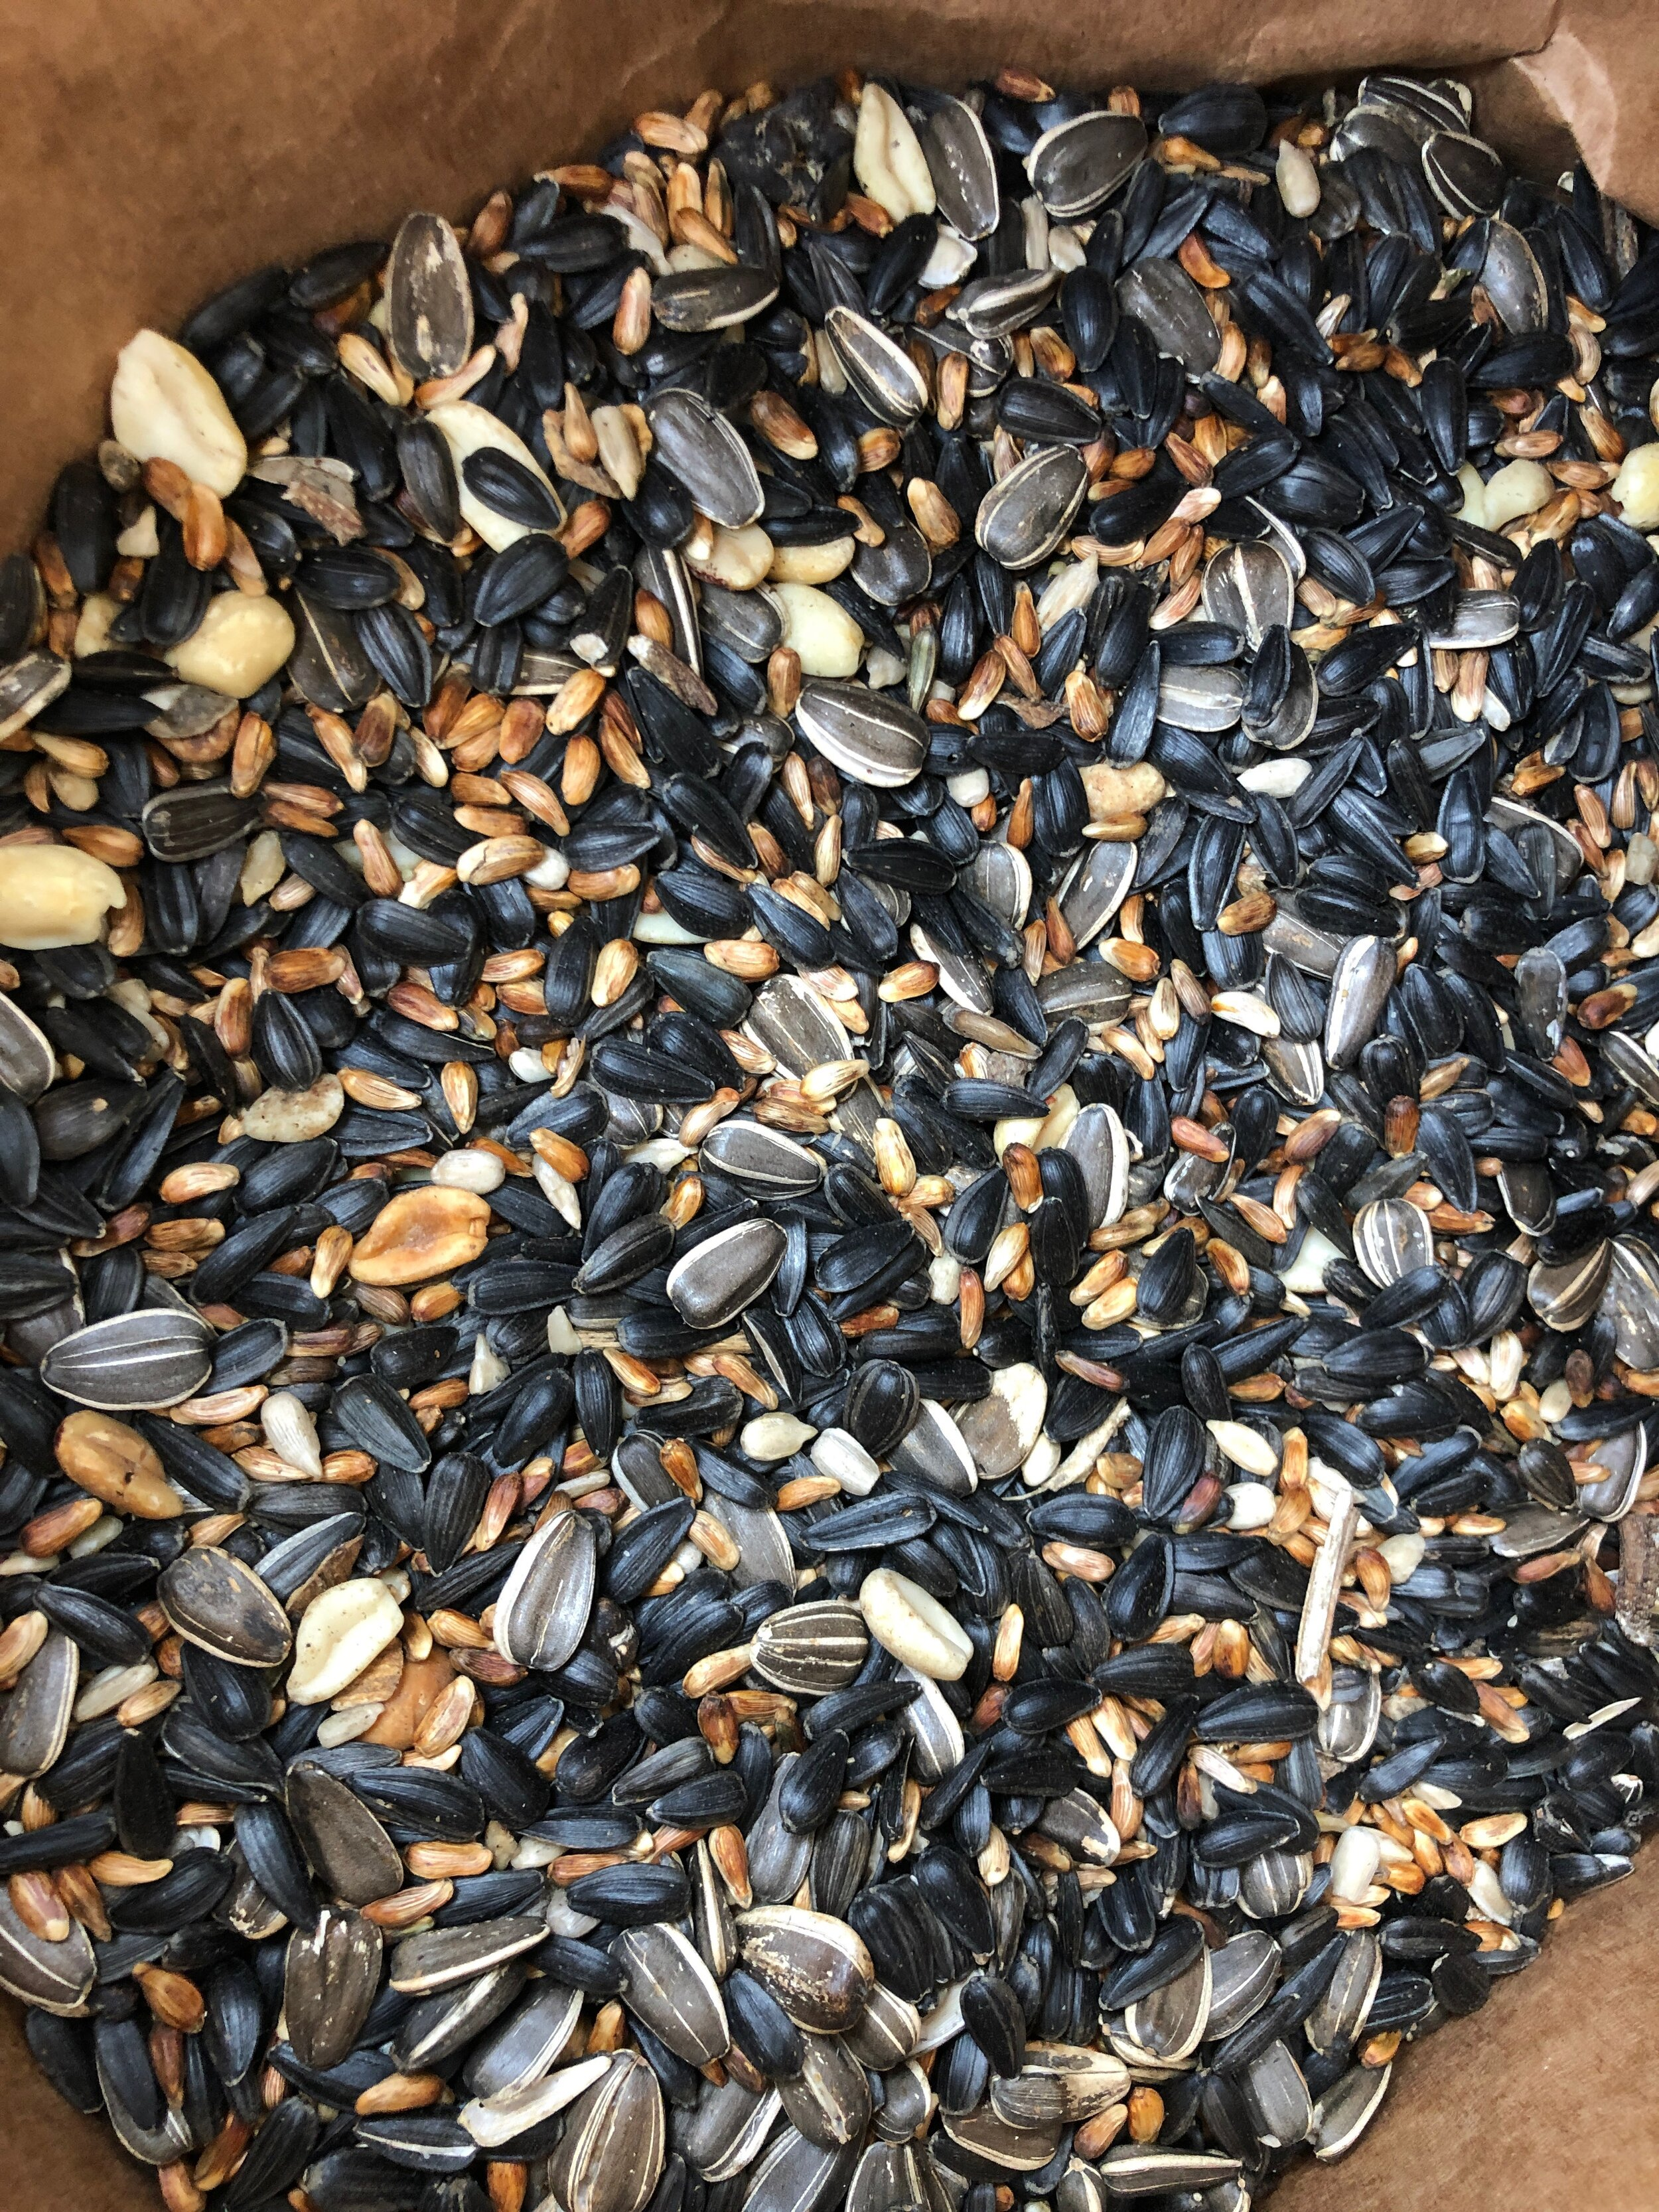seed: (0, 3, 1659, 2212)
